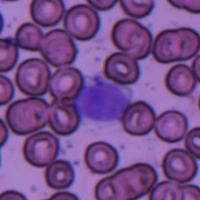L: (75, 78, 131, 122)
